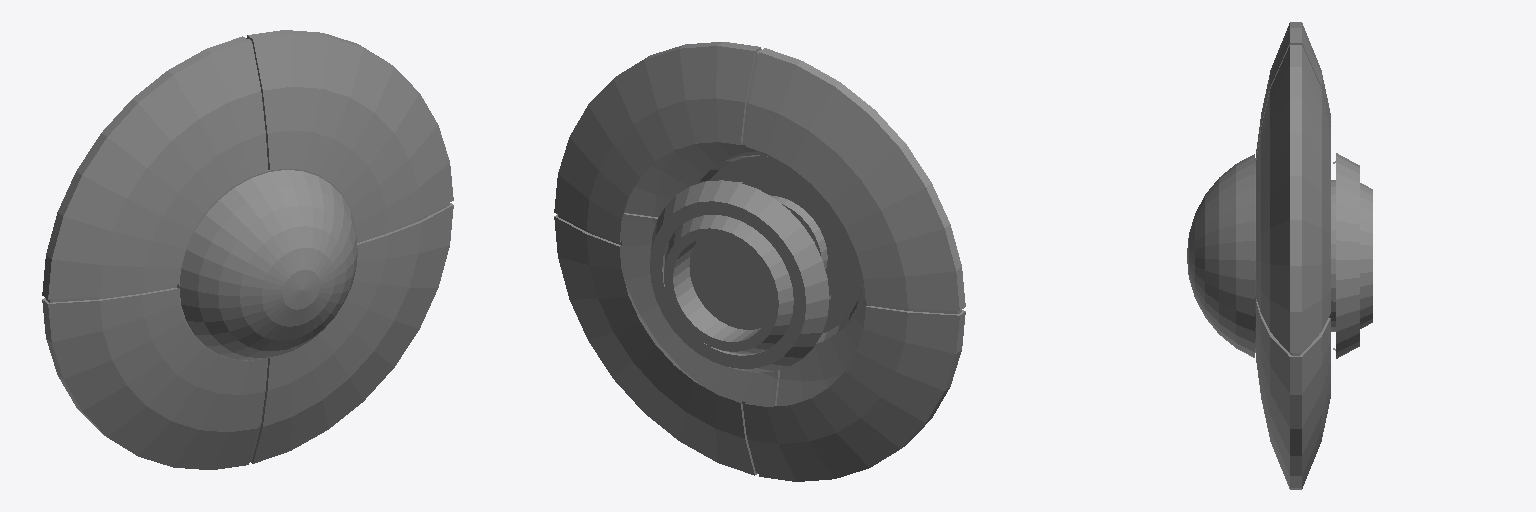
Rendered from ufo.obj.
3 views of the same model, side by side, from view 1: azimuth 30°, elevation 25°; view 2: azimuth 150°, elevation 25°; view 3: azimuth 270°, elevation 25° (orthographic).
Parts seen in each view (by area): view 1: Low_poly_UFO.001; view 2: Low_poly_UFO.001; view 3: Low_poly_UFO.001.
Part boxes in pixels (x1,y1,x2,y2): Low_poly_UFO.001: (42, 30, 453, 469); Low_poly_UFO.001: (554, 42, 965, 481); Low_poly_UFO.001: (1187, 22, 1372, 489).
Bounding box in the file's own units: 3.99 × 3.99 × 1.59.